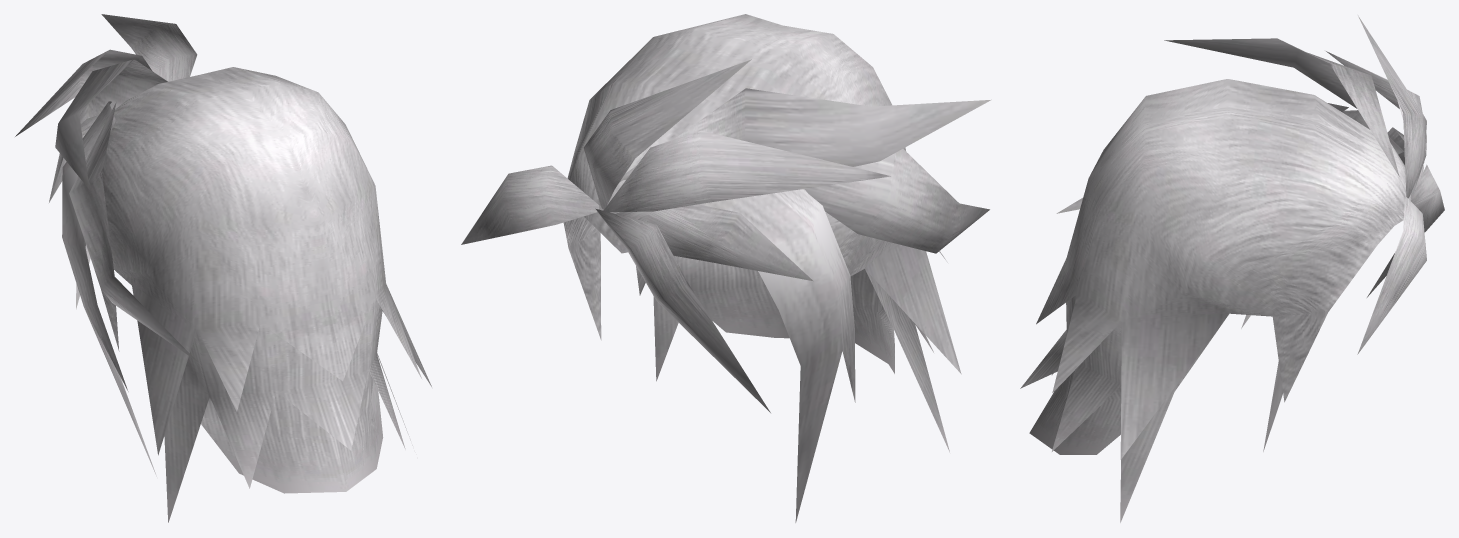
File: Martial arts male hair 23.glb
The picture shows the model from 3 angles, left to right: view 1: azimuth 30°, elevation 25°; view 2: azimuth 150°, elevation 25°; view 3: azimuth 270°, elevation 25°; orthographic projection. The views are drawn at different scales.
Visible parts, largest first — view 1: 武侠男头发23_0; view 2: 武侠男头发23_0; view 3: 武侠男头发23_0.
Boxes of the visible parts, bbox=[...] form: 武侠男头发23_0: bbox=[15, 14, 431, 522]; 武侠男头发23_0: bbox=[461, 14, 991, 522]; 武侠男头发23_0: bbox=[1020, 15, 1444, 522].
Size of the model in its own units: 0.2605 by 0.3026 by 0.2681.
Materials: 1 (1 with a texture image).
